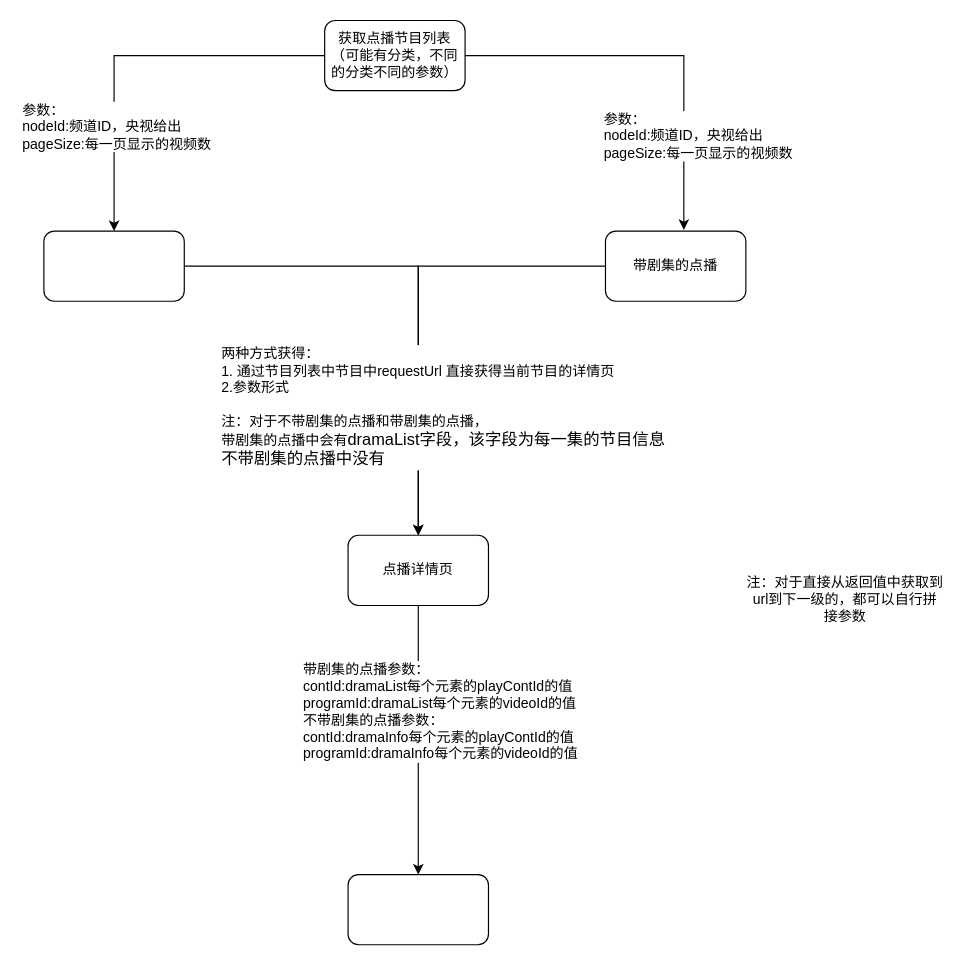
Image size: 964x965. Some labels were removed from this diagram. Each missing label, with the box of its shape:
不带剧集的点播: (43, 230, 184, 301)
获取播放地址: (347, 873, 488, 945)
